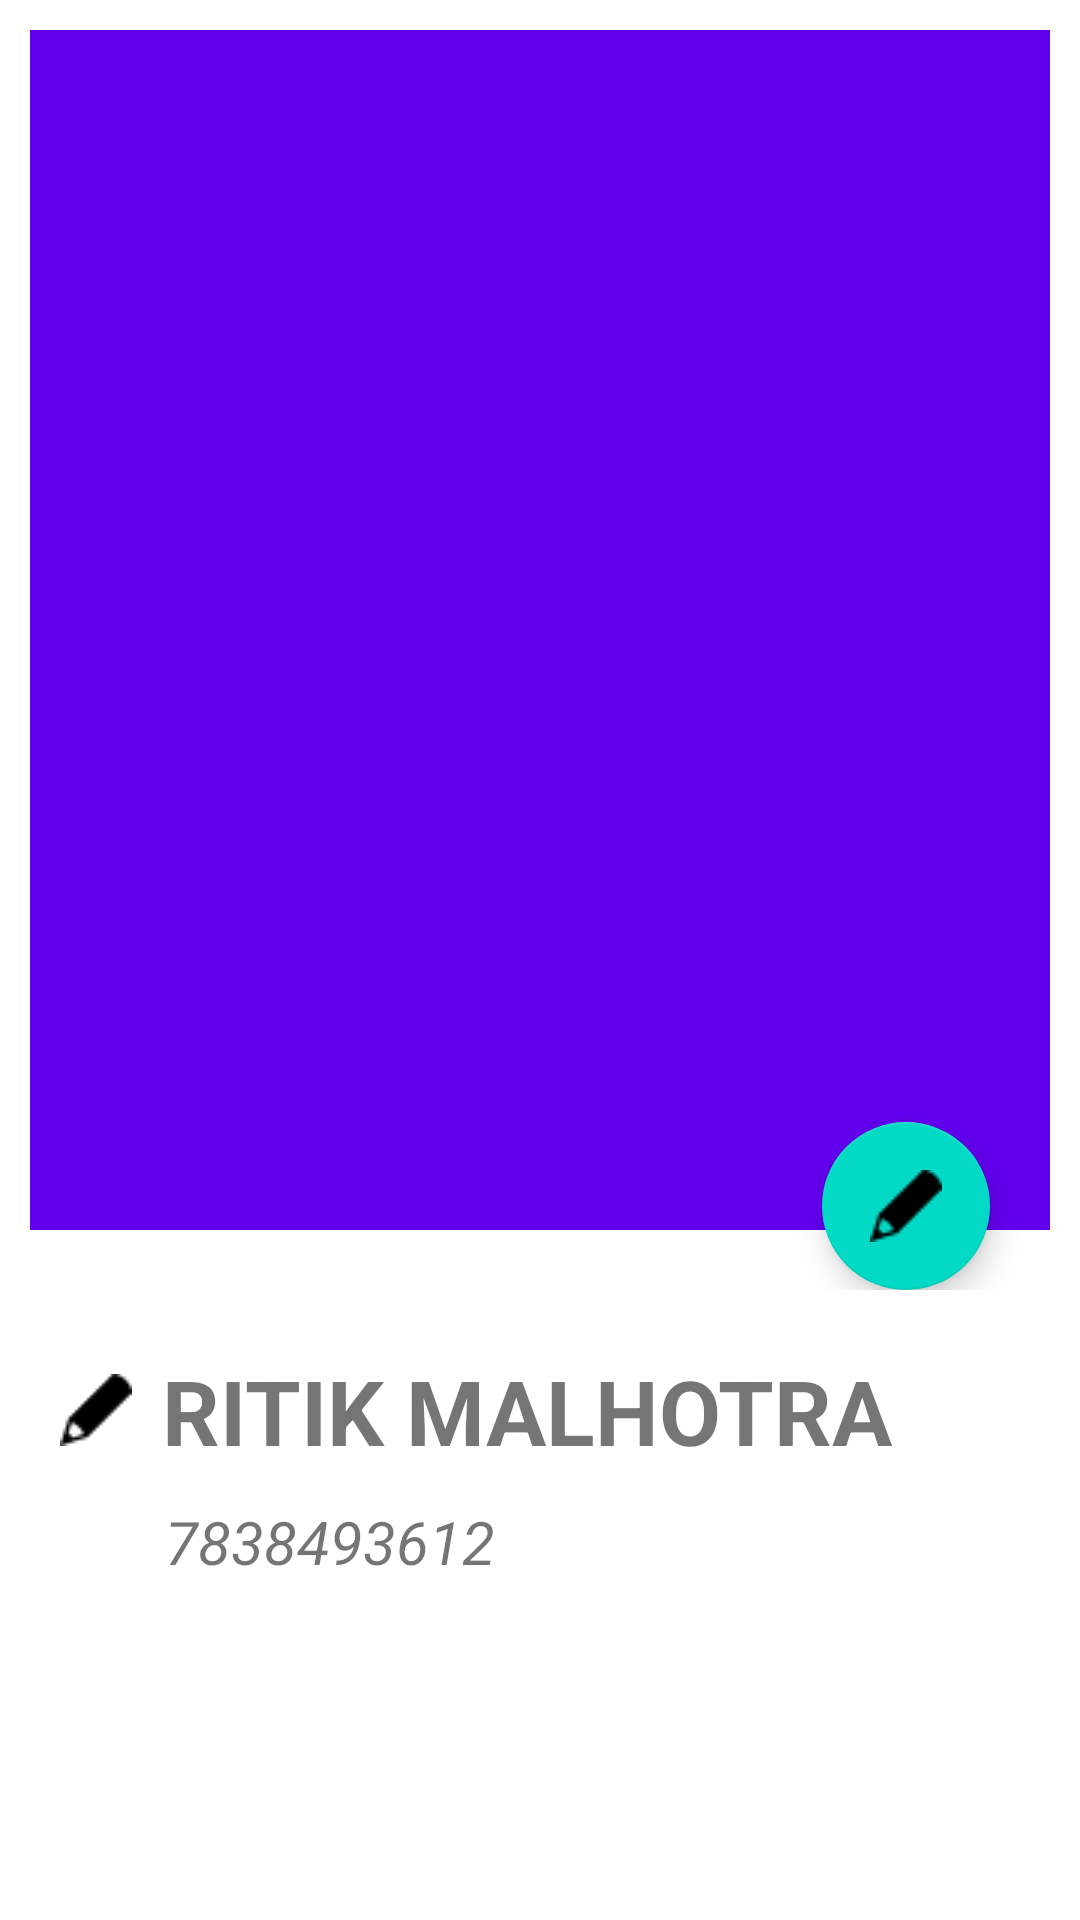

Point at icon controls on the screen. Image size 1080px×1920px, points as (x=x, y=y).
pencil: (x=906, y=1206)
